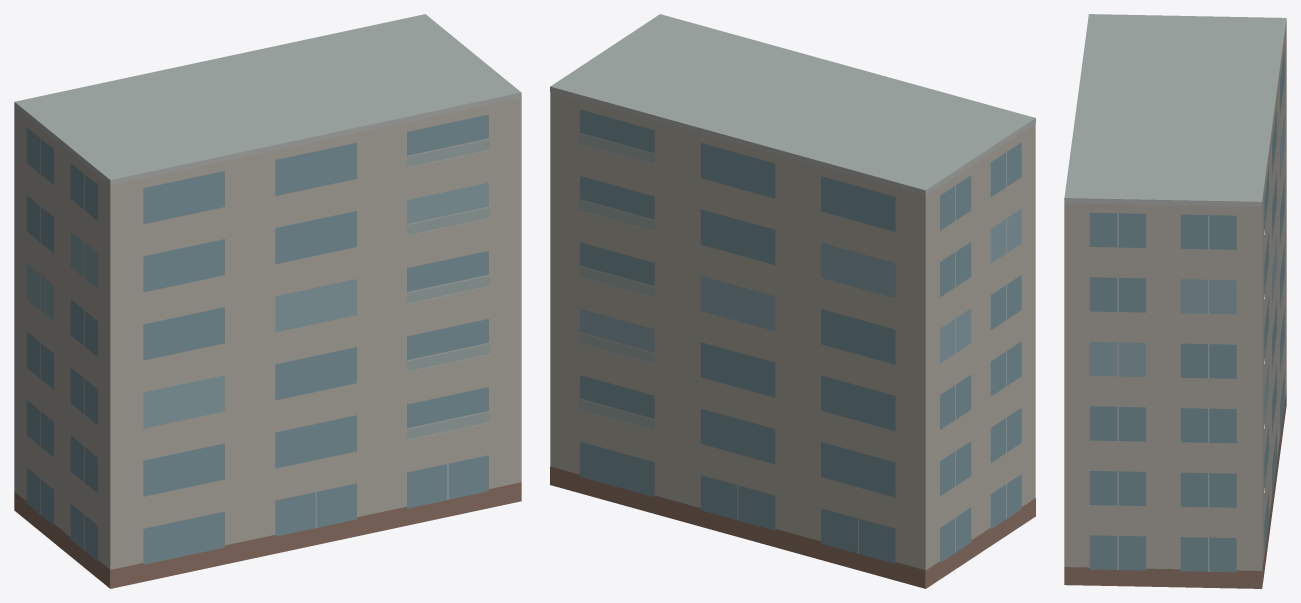
The model's file is survey-upis-32552467.glb.
3 views of the same model, side by side, from view 1: azimuth 30°, elevation 25°; view 2: azimuth 150°, elevation 25°; view 3: azimuth 270°, elevation 25° (orthographic). The views are drawn at different scales.
Visible parts, largest first — view 1: survey-upis-32552467.tmp; view 2: survey-upis-32552467.tmp; view 3: survey-upis-32552467.tmp.
Part boxes in pixels (box(x1,y1,x2,y2)): survey-upis-32552467.tmp: box(14, 14, 521, 588); survey-upis-32552467.tmp: box(550, 14, 1035, 588); survey-upis-32552467.tmp: box(1064, 14, 1286, 588).
Size of the model in its own units: 19.06 by 18.3 by 9.53.
